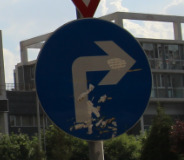right_turn: (35, 18, 153, 140)
